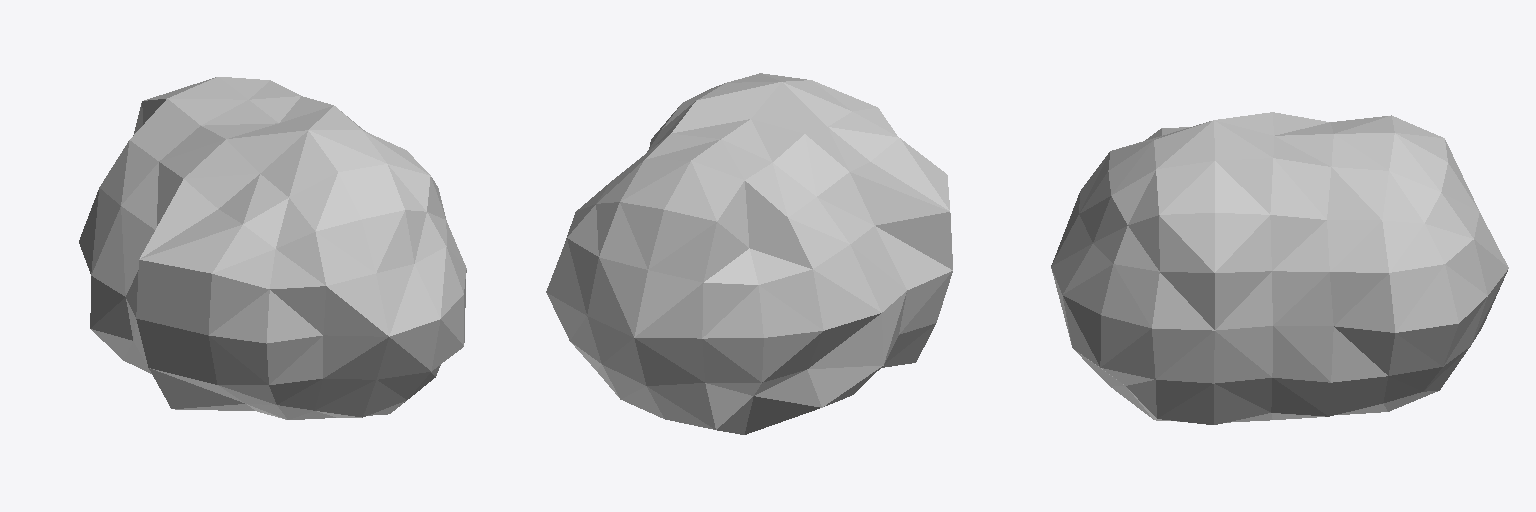
Rendered from rock.obj.
The picture shows the model from 3 angles: view 1: azimuth 30°, elevation 25°; view 2: azimuth 150°, elevation 25°; view 3: azimuth 270°, elevation 25°; orthographic projection.
Visible parts, largest first — view 1: Cube_Cube.001; view 2: Cube_Cube.001; view 3: Cube_Cube.001.
Part boxes in pixels (bbox=[...]): Cube_Cube.001: bbox=[79, 77, 466, 419]; Cube_Cube.001: bbox=[546, 73, 952, 434]; Cube_Cube.001: bbox=[1051, 112, 1508, 424].
Bounding box in the file's own units: 1.99 × 1.81 × 2.58.